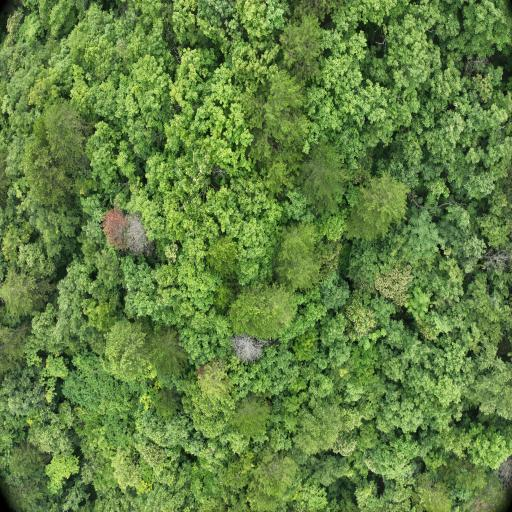dead-tree: (235, 338, 257, 359), (130, 222, 142, 246)
sick-tree: (108, 214, 122, 245)
